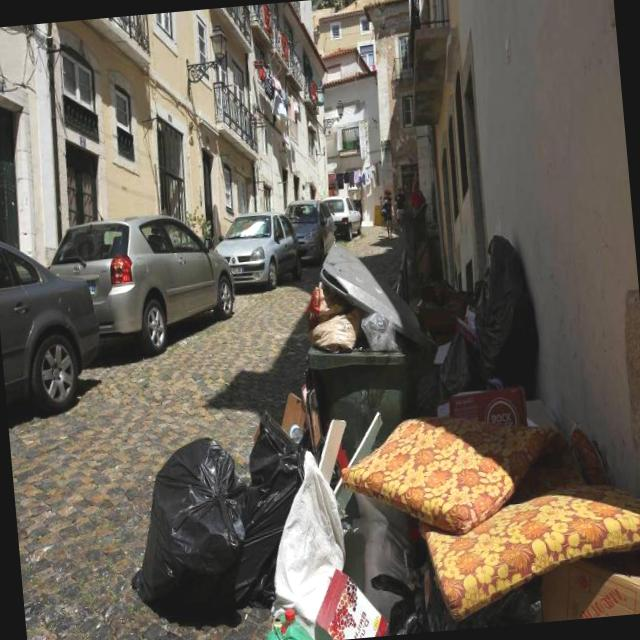garbage: (111, 292, 640, 640)
